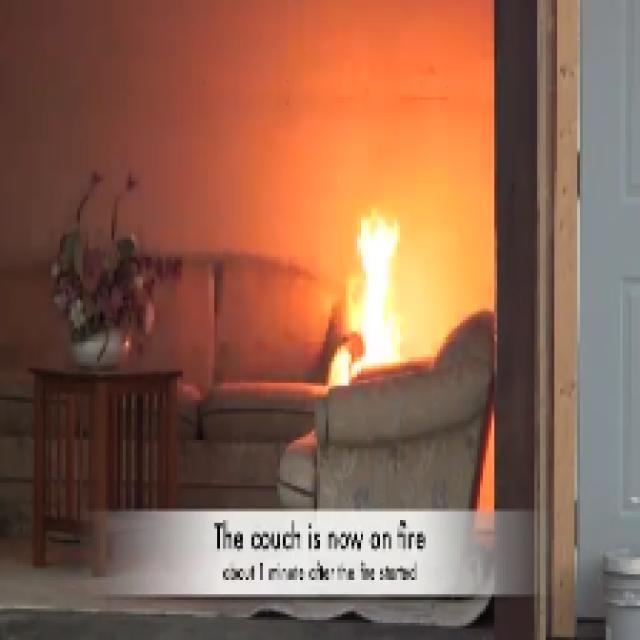Fire: (332, 209, 412, 372)
